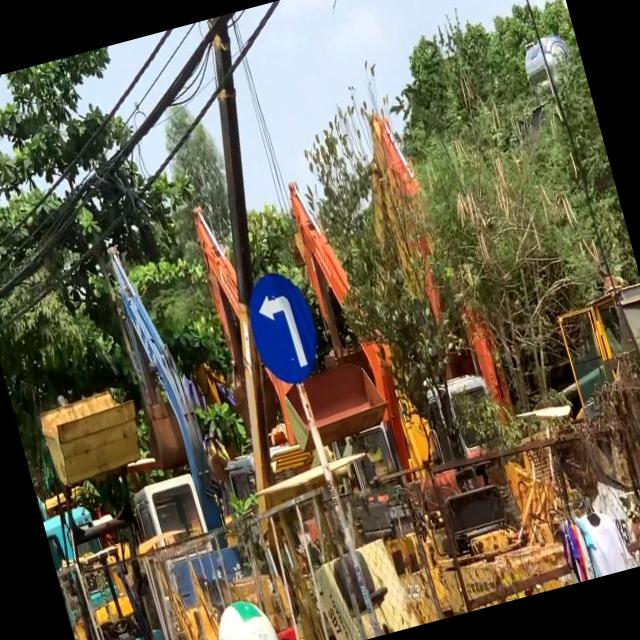R-301e: (241, 269, 323, 389)
